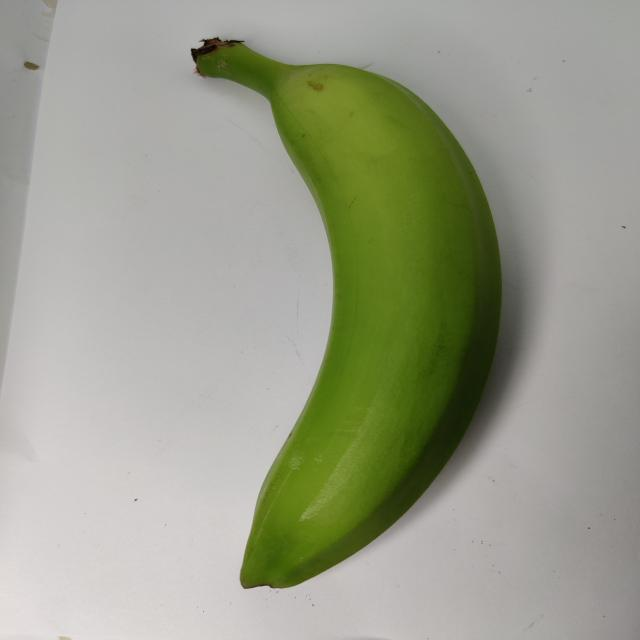raw: (124, 10, 523, 602)
